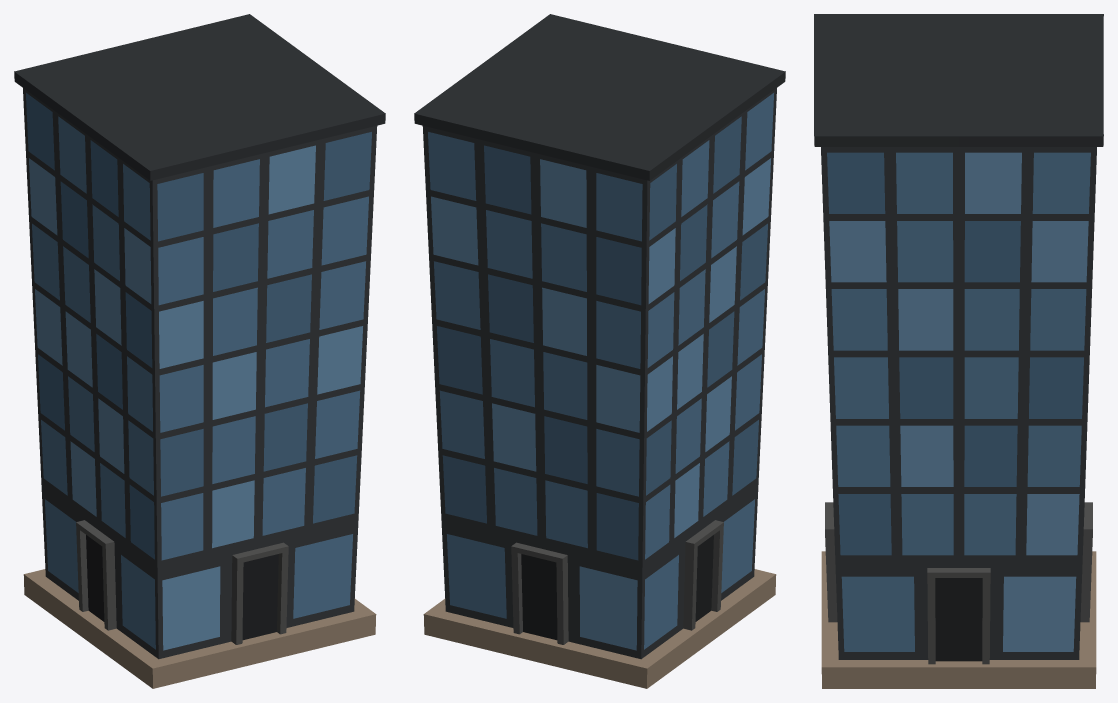
File: Scene-Architecture_D-Architecture_D.glb
The picture shows the model from 3 angles, left to right: view 1: azimuth 30°, elevation 25°; view 2: azimuth 150°, elevation 25°; view 3: azimuth 270°, elevation 25°; orthographic projection. The views are drawn at different scales.
Visible parts, largest first — view 1: Scene-Architecture_D-Architecture_D; view 2: Scene-Architecture_D-Architecture_D; view 3: Scene-Architecture_D-Architecture_D.
Part boxes in pixels (x1,y1,x2,y2): Scene-Architecture_D-Architecture_D: (14, 14, 385, 688); Scene-Architecture_D-Architecture_D: (414, 14, 785, 688); Scene-Architecture_D-Architecture_D: (814, 14, 1103, 688).
Bounding box in the file's own units: 3.78 × 8.01 × 3.78.
1 material, 1 textured.
